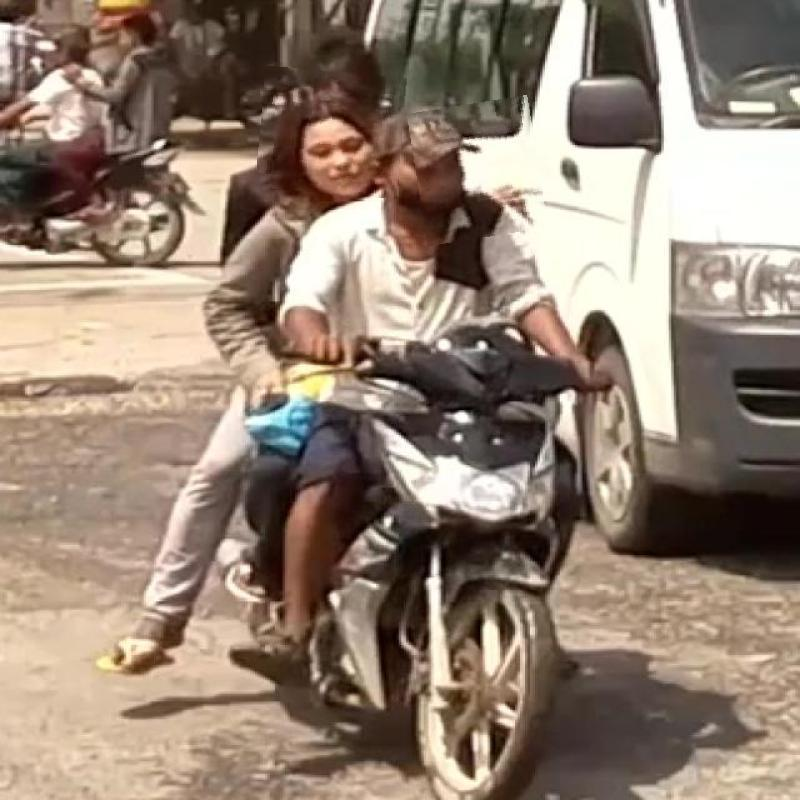nohelmet: (412, 100, 544, 242), (258, 69, 404, 197)
